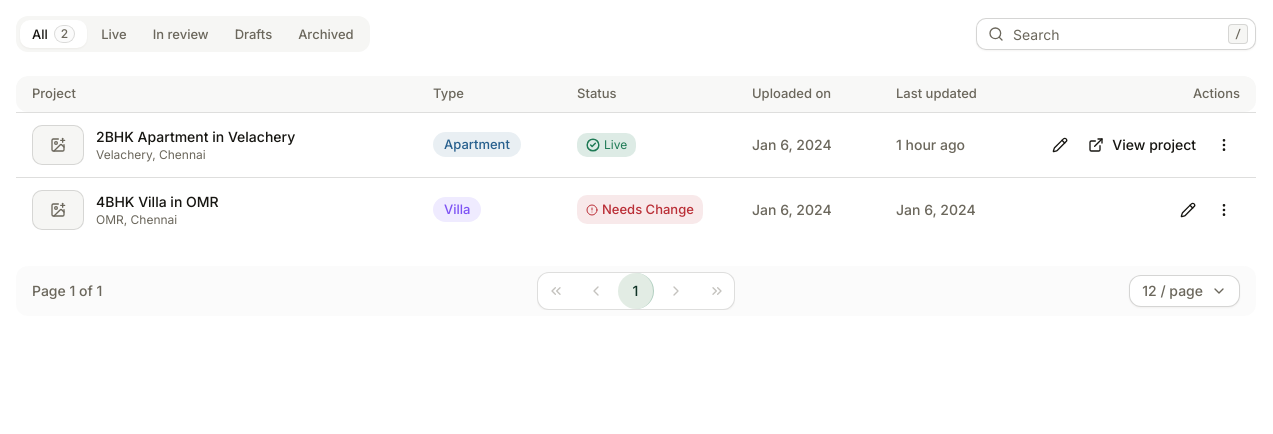
Test: DesignerProjectsList › opens project details by touch and dismisses them with Escape
Click the button with aria-label "Preview 2BHK Apartment in Velachery". click: (216, 144)
box: [32,124,401,164]
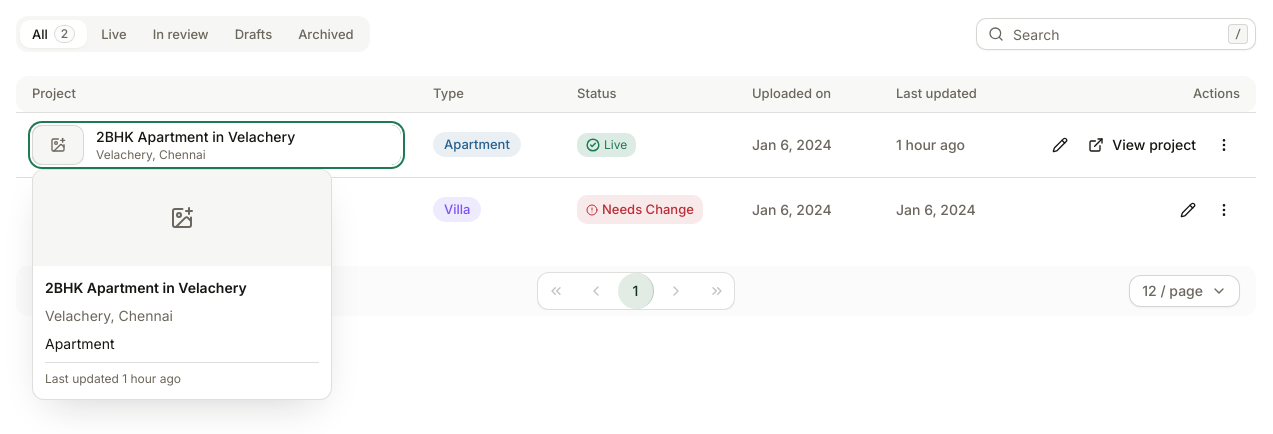
Now the tooltip shows "Velachery, Chennai", box [45,307,173,324]
Now the tooltip shows "Apartment", box [45,335,115,352]
Now the tooltip shows "Last updated", box [45,371,122,386]
Press Escape
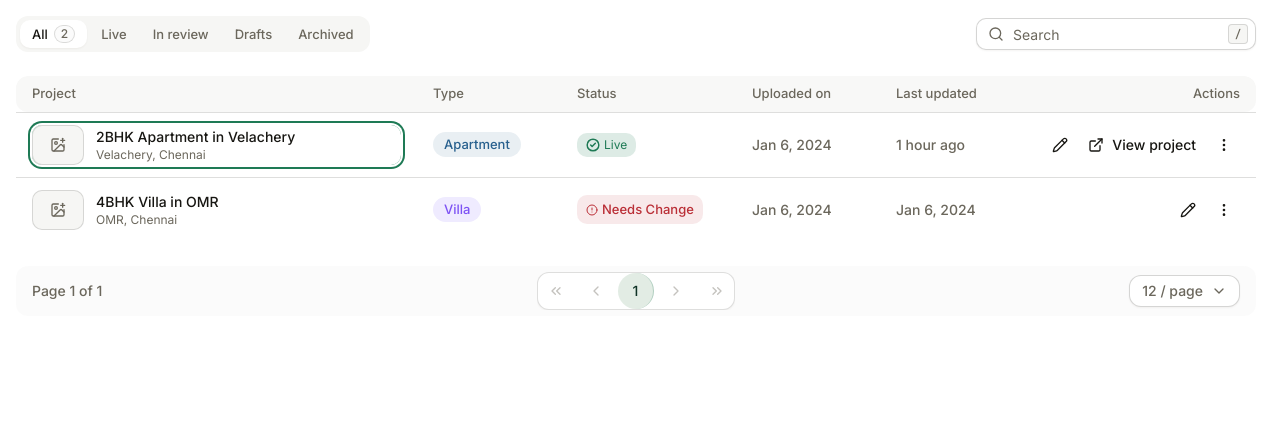
Now the tooltip is gone
